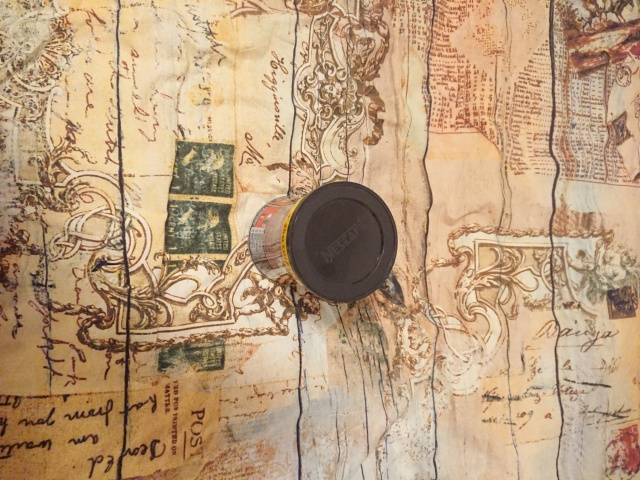Nescafe Classic 225g: (244, 178, 401, 306)
